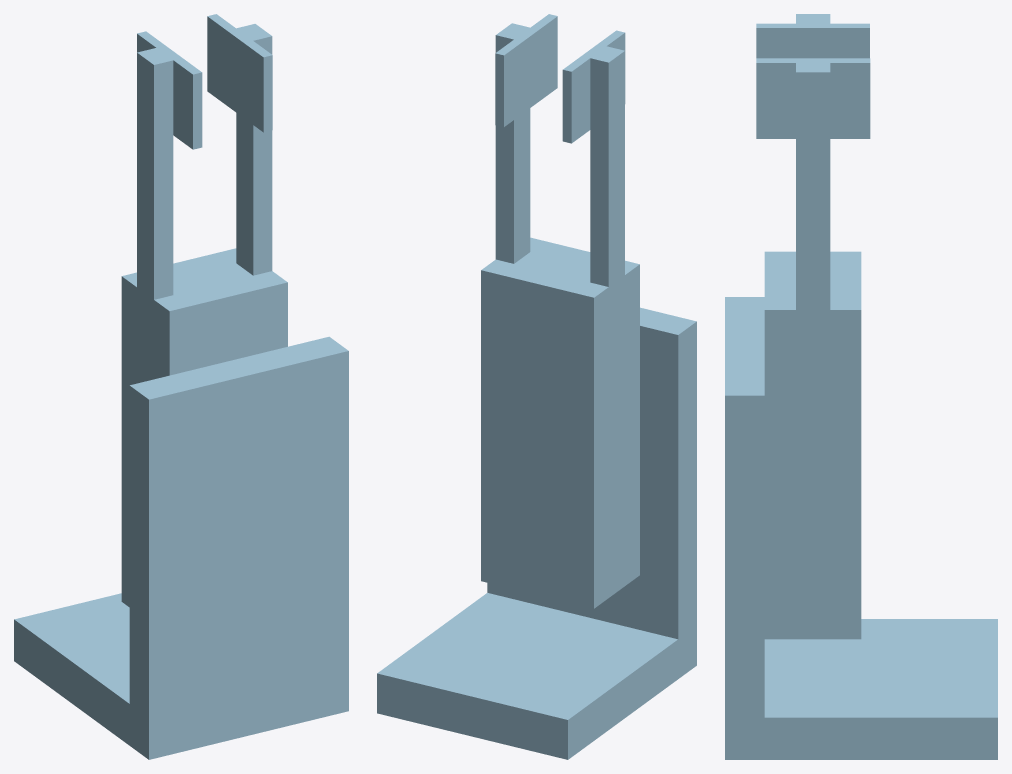
Rendered from smc_gripper.dae.
3 renders of one model, left to right at view 1: azimuth 30°, elevation 25°; view 2: azimuth 150°, elevation 25°; view 3: azimuth 270°, elevation 25°, orthographic. The views are drawn at different scales.
Parts seen in each view (by area): view 1: 平面; view 2: 平面; view 3: 平面.
Boxes of the visible parts, bbox=[...] form: 平面: bbox=[14, 14, 348, 759]; 平面: bbox=[377, 14, 696, 759]; 平面: bbox=[725, 14, 997, 759].
Size of the model in its own units: 0.065 by 0.076 by 0.205.
